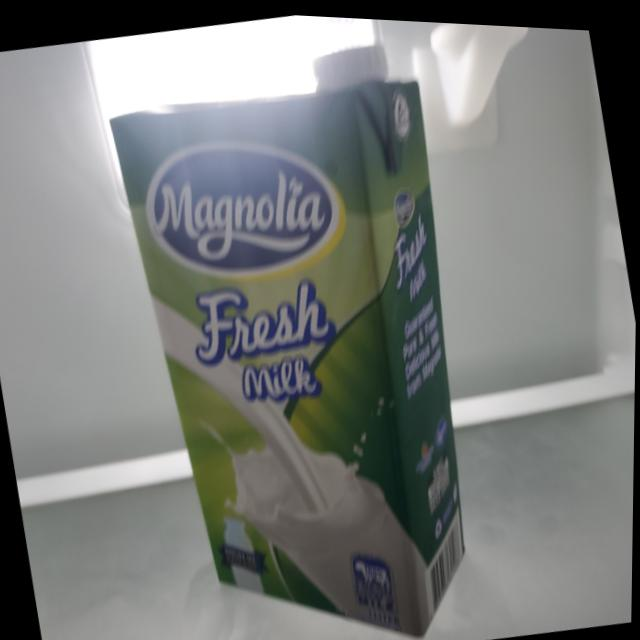milk: (97, 21, 515, 640)
